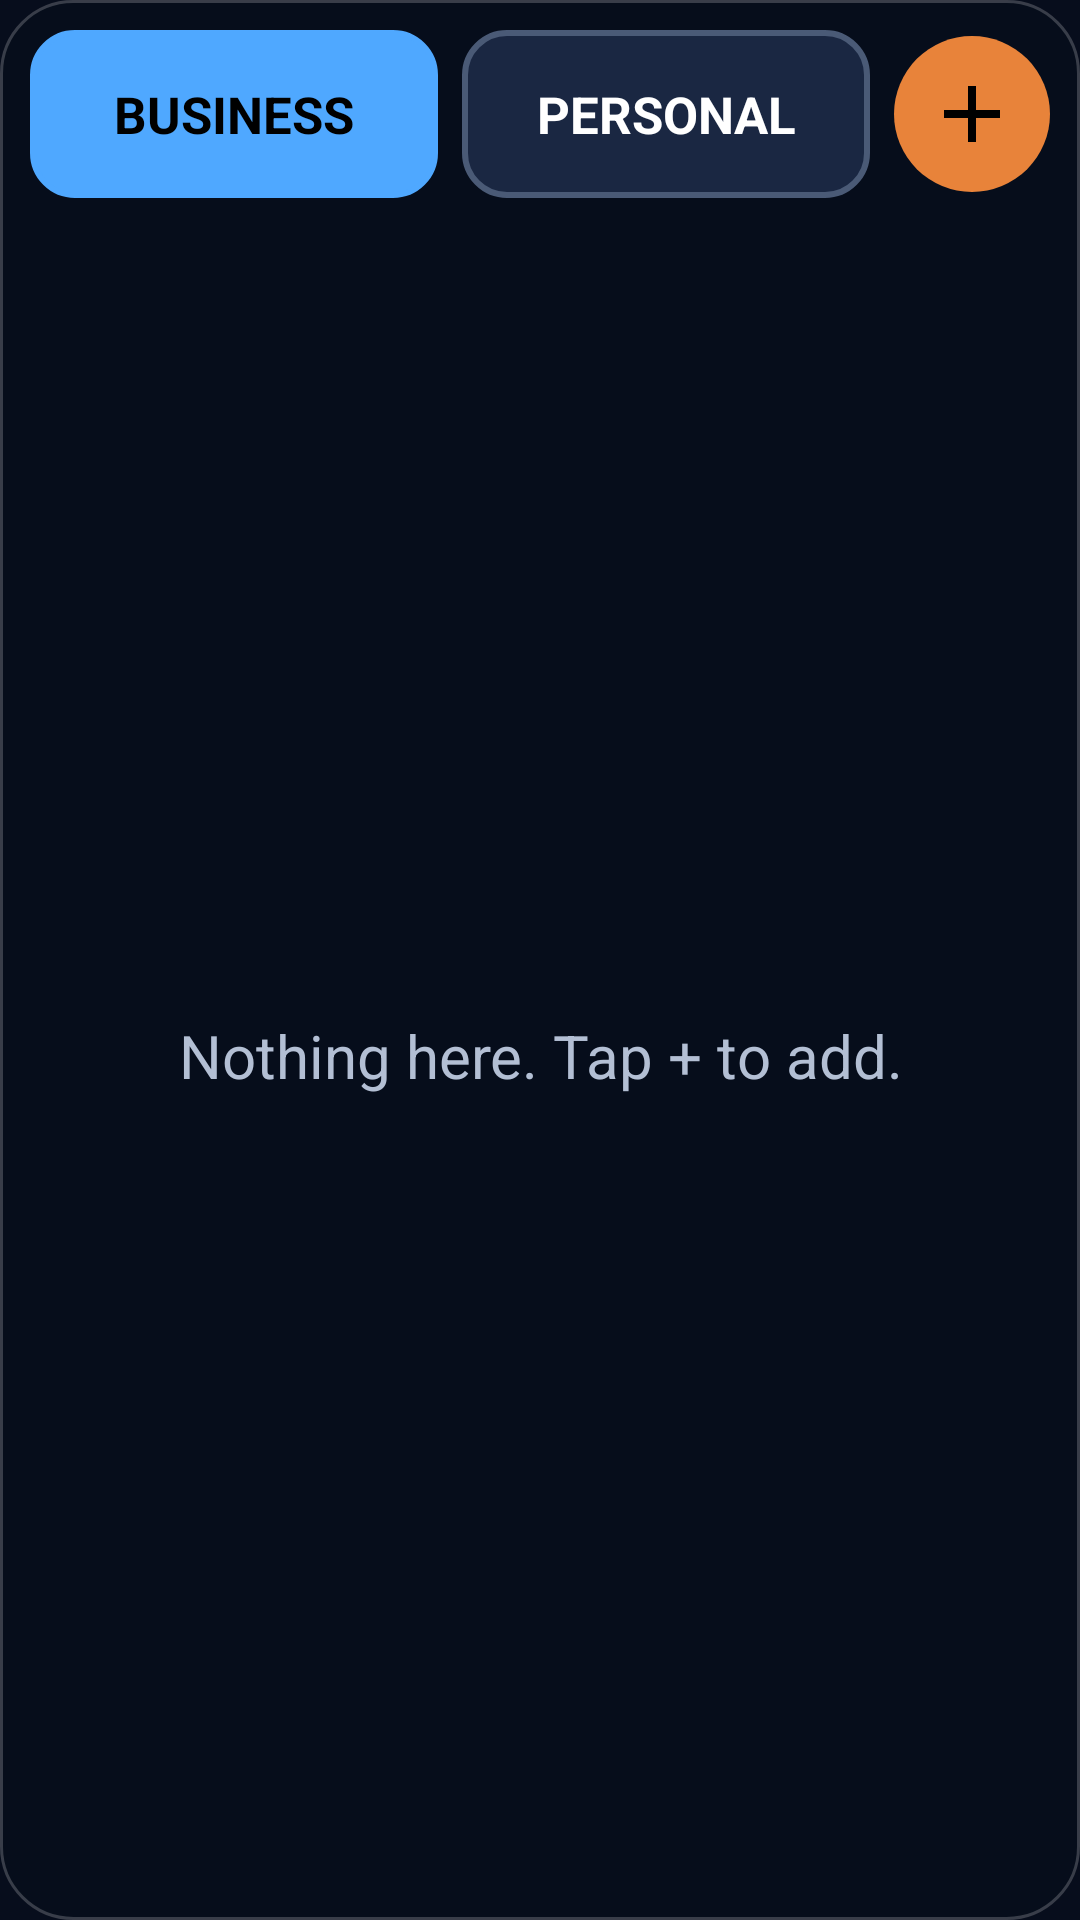

Where icons sit on this 1080px×1920px app screen, as (x1, y1, x2, y2):
Add a task: (894, 36, 1050, 192)
